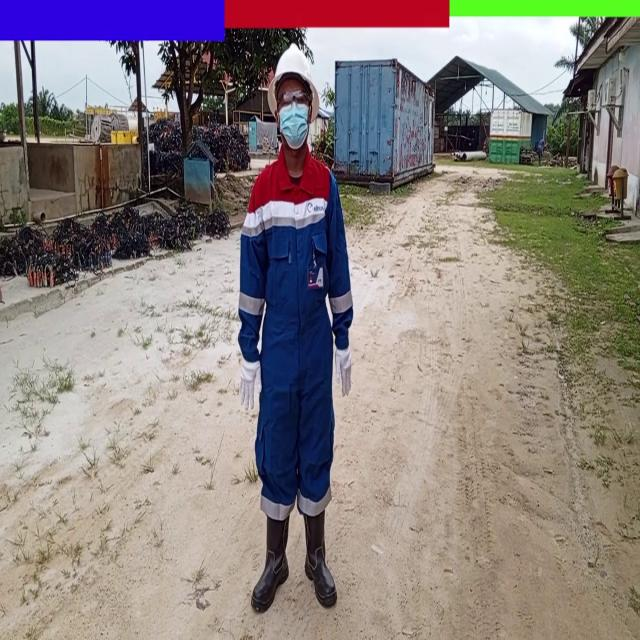Gloves: (239, 359, 258, 407), (336, 349, 351, 402)
Hardhat: (266, 42, 323, 114)
Mask: (279, 106, 310, 151)
Overall Suit: (237, 157, 352, 514)
Safety Boots: (252, 519, 288, 610), (304, 515, 337, 606)
